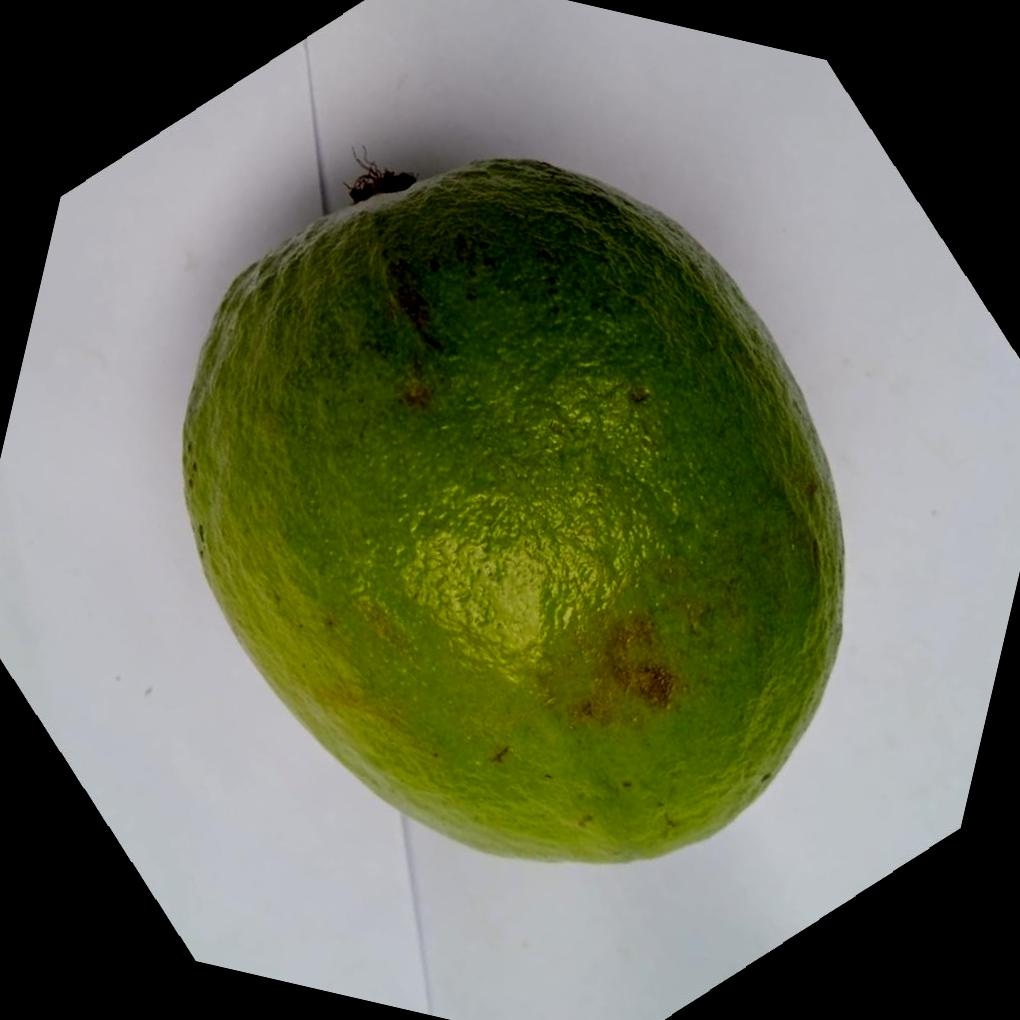FreshGuava: (175, 152, 844, 865)
